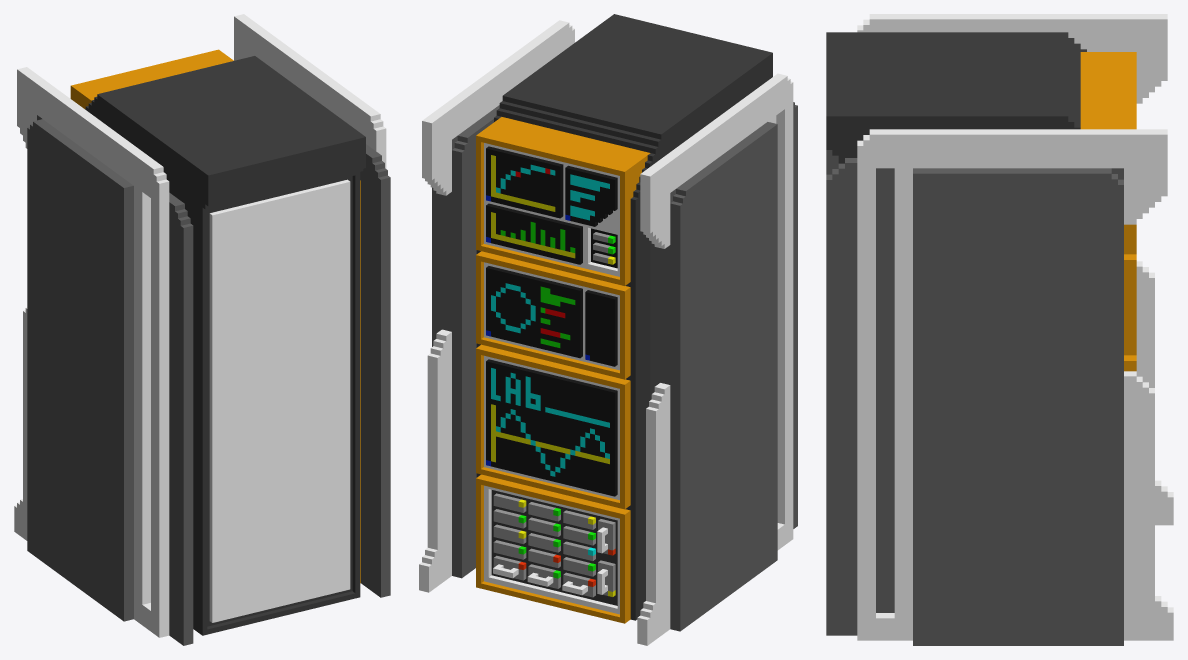
Rendered from Environment_UntiledLabs_Furniture-2.obj.
3 views of the same model, side by side, from view 1: azimuth 30°, elevation 25°; view 2: azimuth 150°, elevation 25°; view 3: azimuth 270°, elevation 25° (orthographic). The views are drawn at different scales.
Bounding box in the file's own units: 5 × 9 × 5.6.
Materials: 1 (1 with a texture image).
